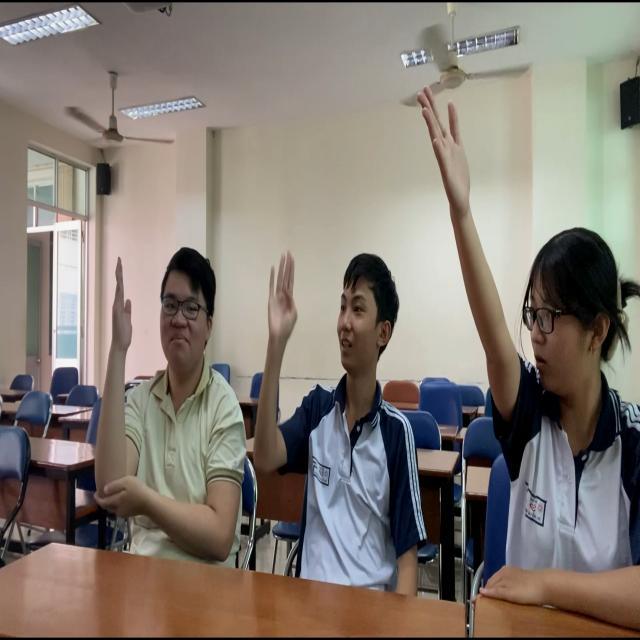raise_hand: (427, 92, 640, 638), (261, 221, 420, 613), (84, 238, 250, 586)
